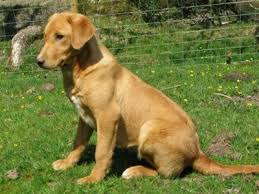dog_sitting: (34, 11, 259, 186)
